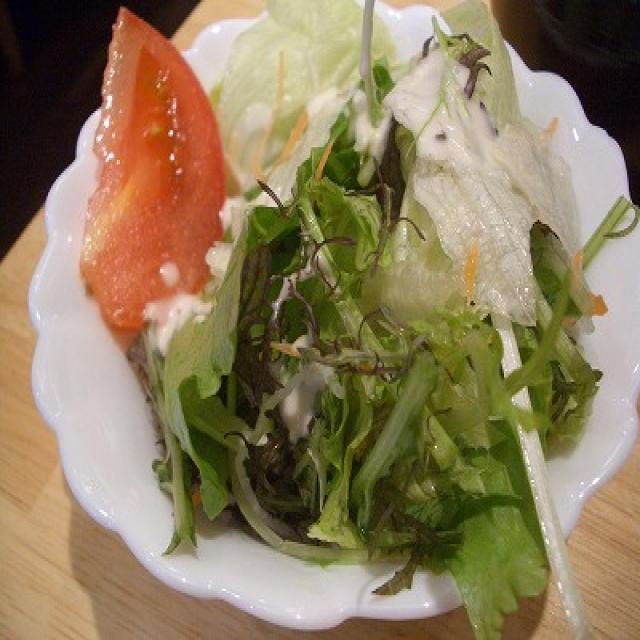Green Salad: (103, 22, 592, 602)
Tomato: (90, 8, 220, 305)
